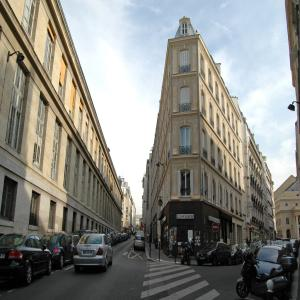Vehicle-registration-plate: (83, 251, 93, 255), (1, 255, 5, 260)
